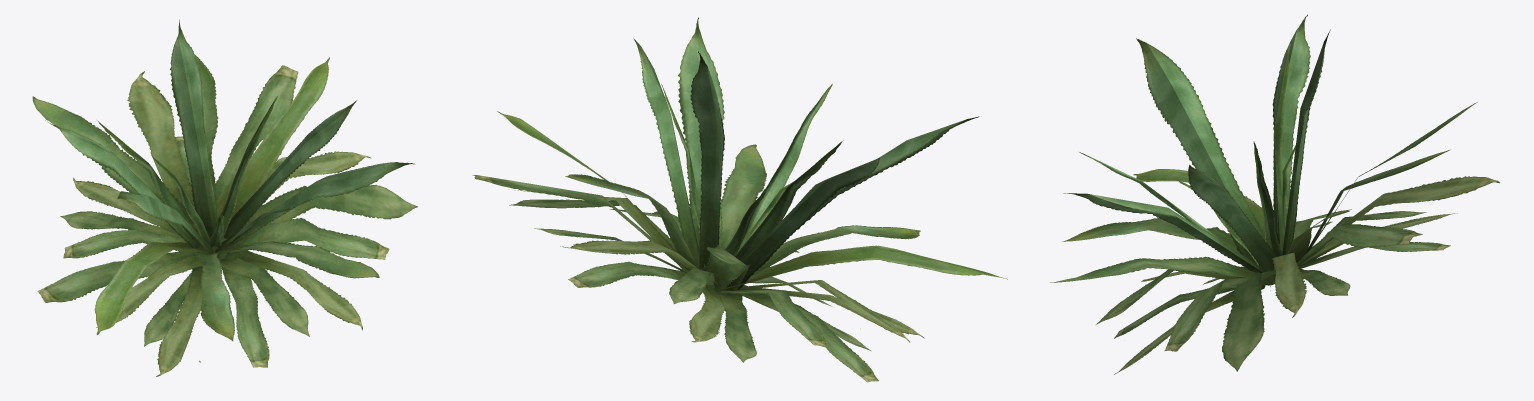
The model's file is yj_cao_2.FBX.
3 views of the same model, side by side, from view 1: azimuth 30°, elevation 25°; view 2: azimuth 150°, elevation 25°; view 3: azimuth 270°, elevation 25° (orthographic). The views are drawn at different scales.
Parts seen in each view (by area): view 1: yj_cao_2; view 2: yj_cao_2; view 3: yj_cao_2.
Part boxes in pixels (box(x1,y1,x2,y2)): yj_cao_2: box(32, 19, 417, 376); yj_cao_2: box(472, 17, 1007, 382); yj_cao_2: box(1050, 14, 1499, 374).
Size of the model in its own units: 199 by 144 by 194.
